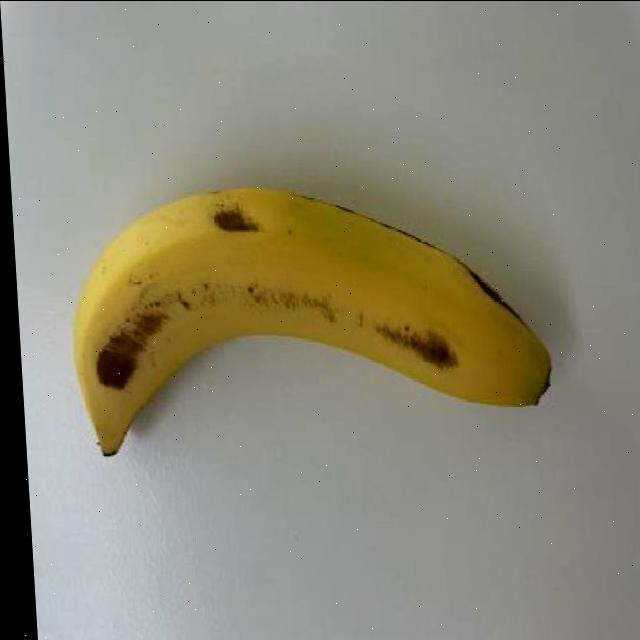banana: (63, 188, 558, 458)
